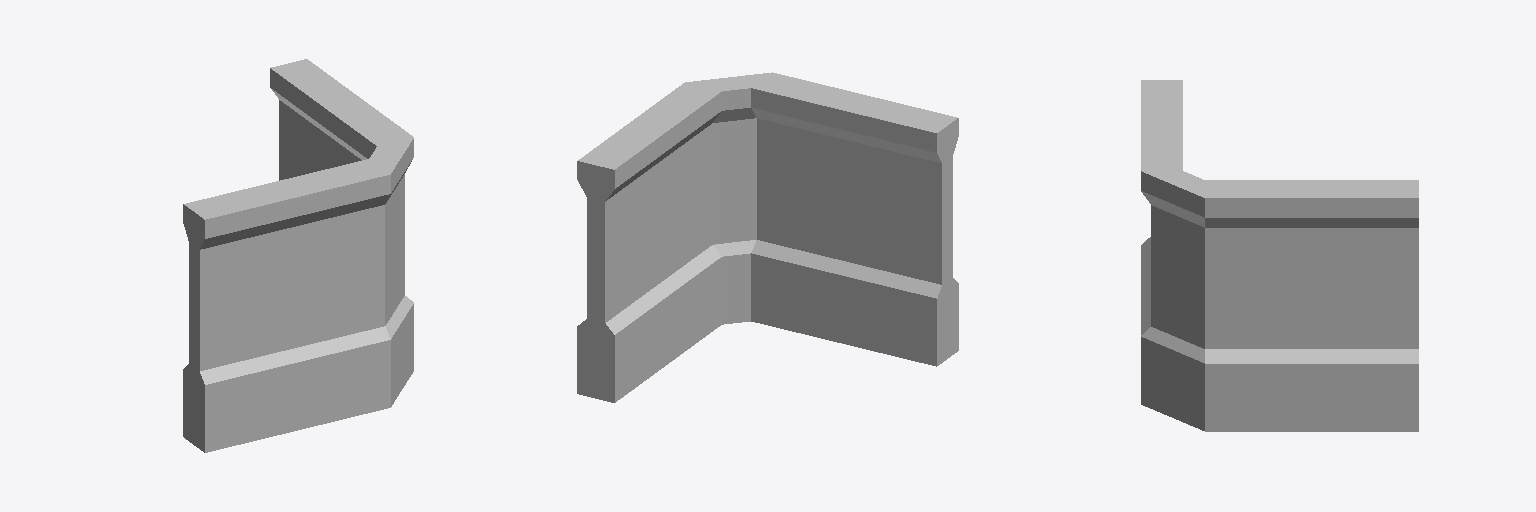
File: Quart_Wall_Corner_snaps002.obj
The picture shows the model from 3 angles: view 1: azimuth 30°, elevation 25°; view 2: azimuth 150°, elevation 25°; view 3: azimuth 270°, elevation 25°; orthographic projection.
Parts seen in each view (by area): view 1: Quart_Wall_Corner_snaps002; view 2: Quart_Wall_Corner_snaps002; view 3: Quart_Wall_Corner_snaps002.
Part boxes in pixels (bbox=[...]): Quart_Wall_Corner_snaps002: bbox=[183, 59, 413, 452]; Quart_Wall_Corner_snaps002: bbox=[577, 72, 958, 402]; Quart_Wall_Corner_snaps002: bbox=[1141, 80, 1418, 431].
Bounding box in the file's own units: 3.25 × 3 × 3.25.